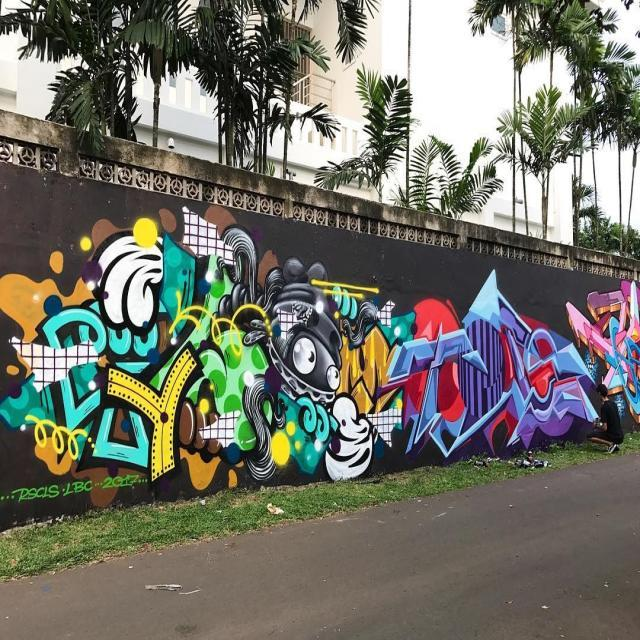-: (2, 205, 416, 490), (389, 266, 601, 454), (567, 274, 640, 422)
